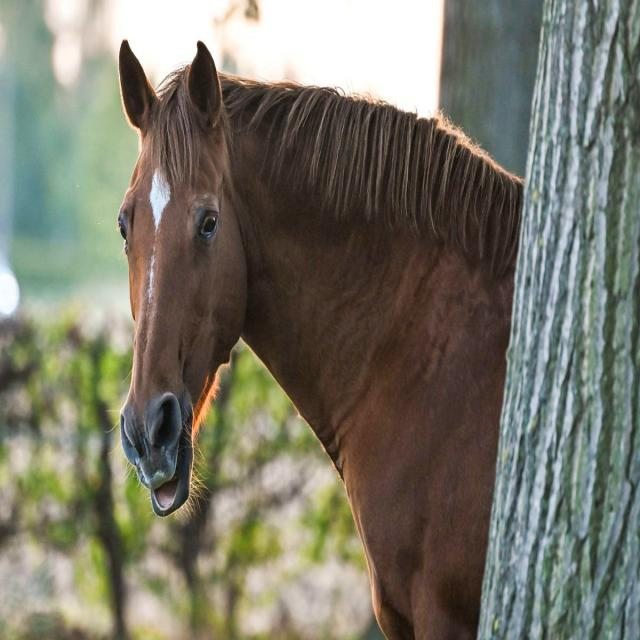horse: (118, 41, 523, 639)
